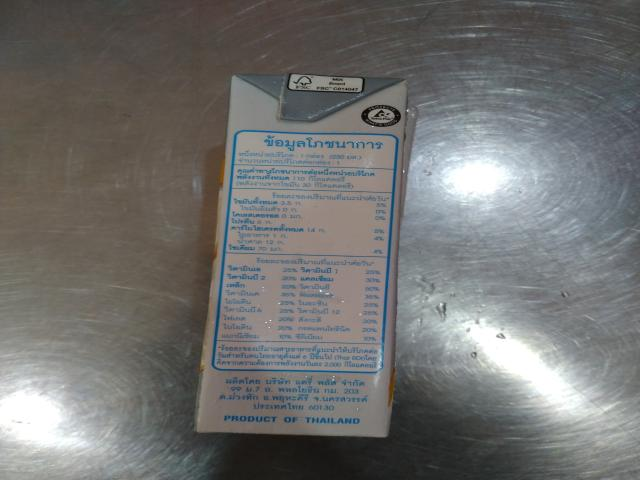drink_box: (147, 52, 450, 472)
